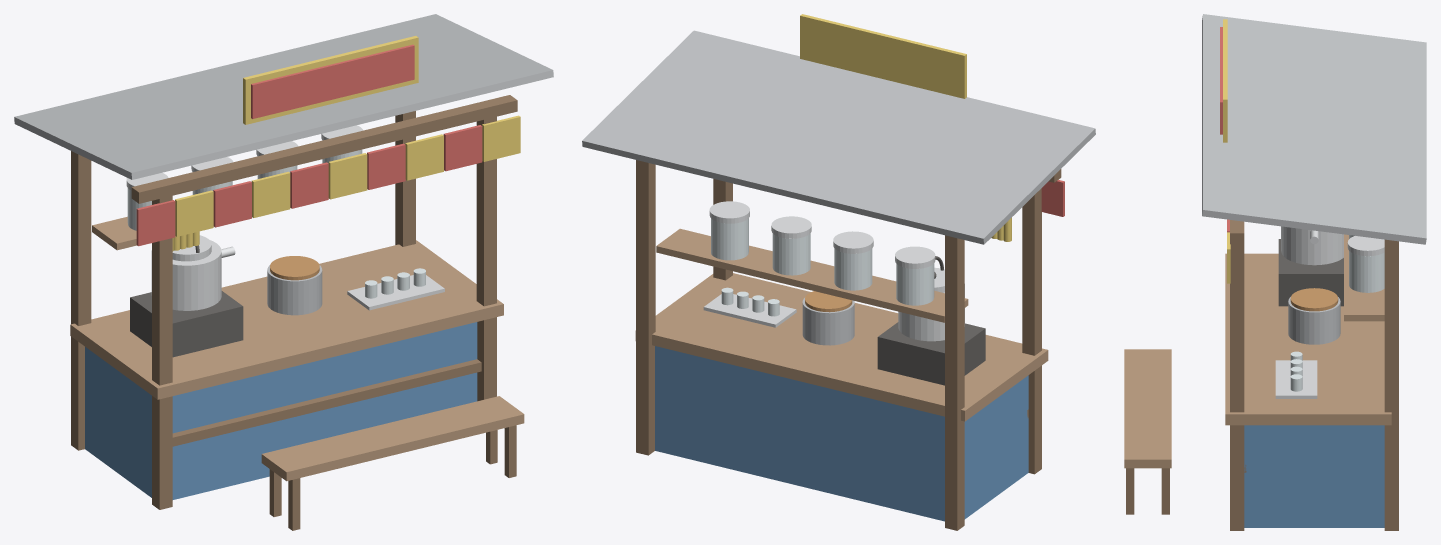
File: tea_stall.glb
3 views of the same model, side by side, from view 1: azimuth 30°, elevation 25°; view 2: azimuth 150°, elevation 25°; view 3: azimuth 270°, elevation 25° (orthographic). The views are drawn at different scales.
Parts seen in each view (by area): view 1: part_9, part_0, part_1, part_52, part_7, part_58, part_4, part_3, part_6, part_2, part_34, part_57 (+18 smaller); view 2: part_9, part_0, part_1, part_57, part_20, part_3, part_5, part_4, part_34, part_41, part_25, part_23 (+11 smaller); view 3: part_9, part_1, part_0, part_52, part_5, part_6, part_34, part_36, part_41, part_20, part_43, part_27 (+6 smaller).
Boxes of the visible parts, x1,y1,x2,y2 form: part_9: (14,14,553,179); part_0: (85,322,477,499); part_1: (70,240,503,399); part_52: (261,396,524,481); part_7: (131,95,517,203); part_58: (251,44,414,118); part_4: (152,190,172,509); part_3: (71,151,91,450); part_6: (476,111,496,401); part_2: (172,359,481,446); part_34: (130,291,243,357); part_57: (243,36,418,124); part_9: (582,30,1095,244); part_0: (655,346,1028,521); part_1: (635,273,1048,421); part_57: (800,14,966,98); part_20: (656,228,968,322); part_3: (945,235,964,530); part_5: (636,160,655,455); part_4: (1022,188,1041,474); part_34: (877,322,985,385); part_41: (802,298,854,345); part_25: (772,233,810,275); part_23: (834,248,872,290); part_9: (1202,14,1426,244); part_1: (1225,253,1391,425); part_0: (1244,425,1384,527); part_52: (1124,349,1171,468); part_5: (1384,244,1398,530); part_6: (1230,244,1244,530); part_34: (1278,239,1343,306); part_36: (1281,226,1343,265); part_41: (1288,297,1340,344); part_20: (1344,234,1384,321); part_43: (1275,360,1317,398); part_27: (1349,251,1384,292).
Size of the model in its own units: 3.9 by 3.65 by 2.54.
